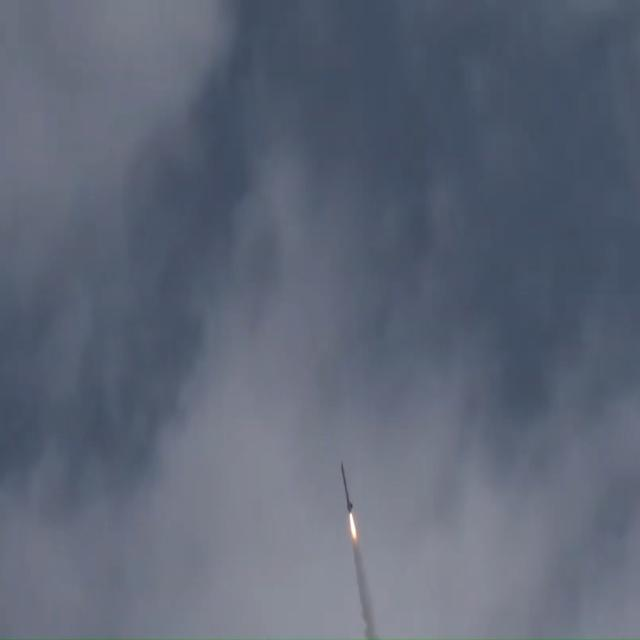Rocket: (341, 461, 353, 516)
